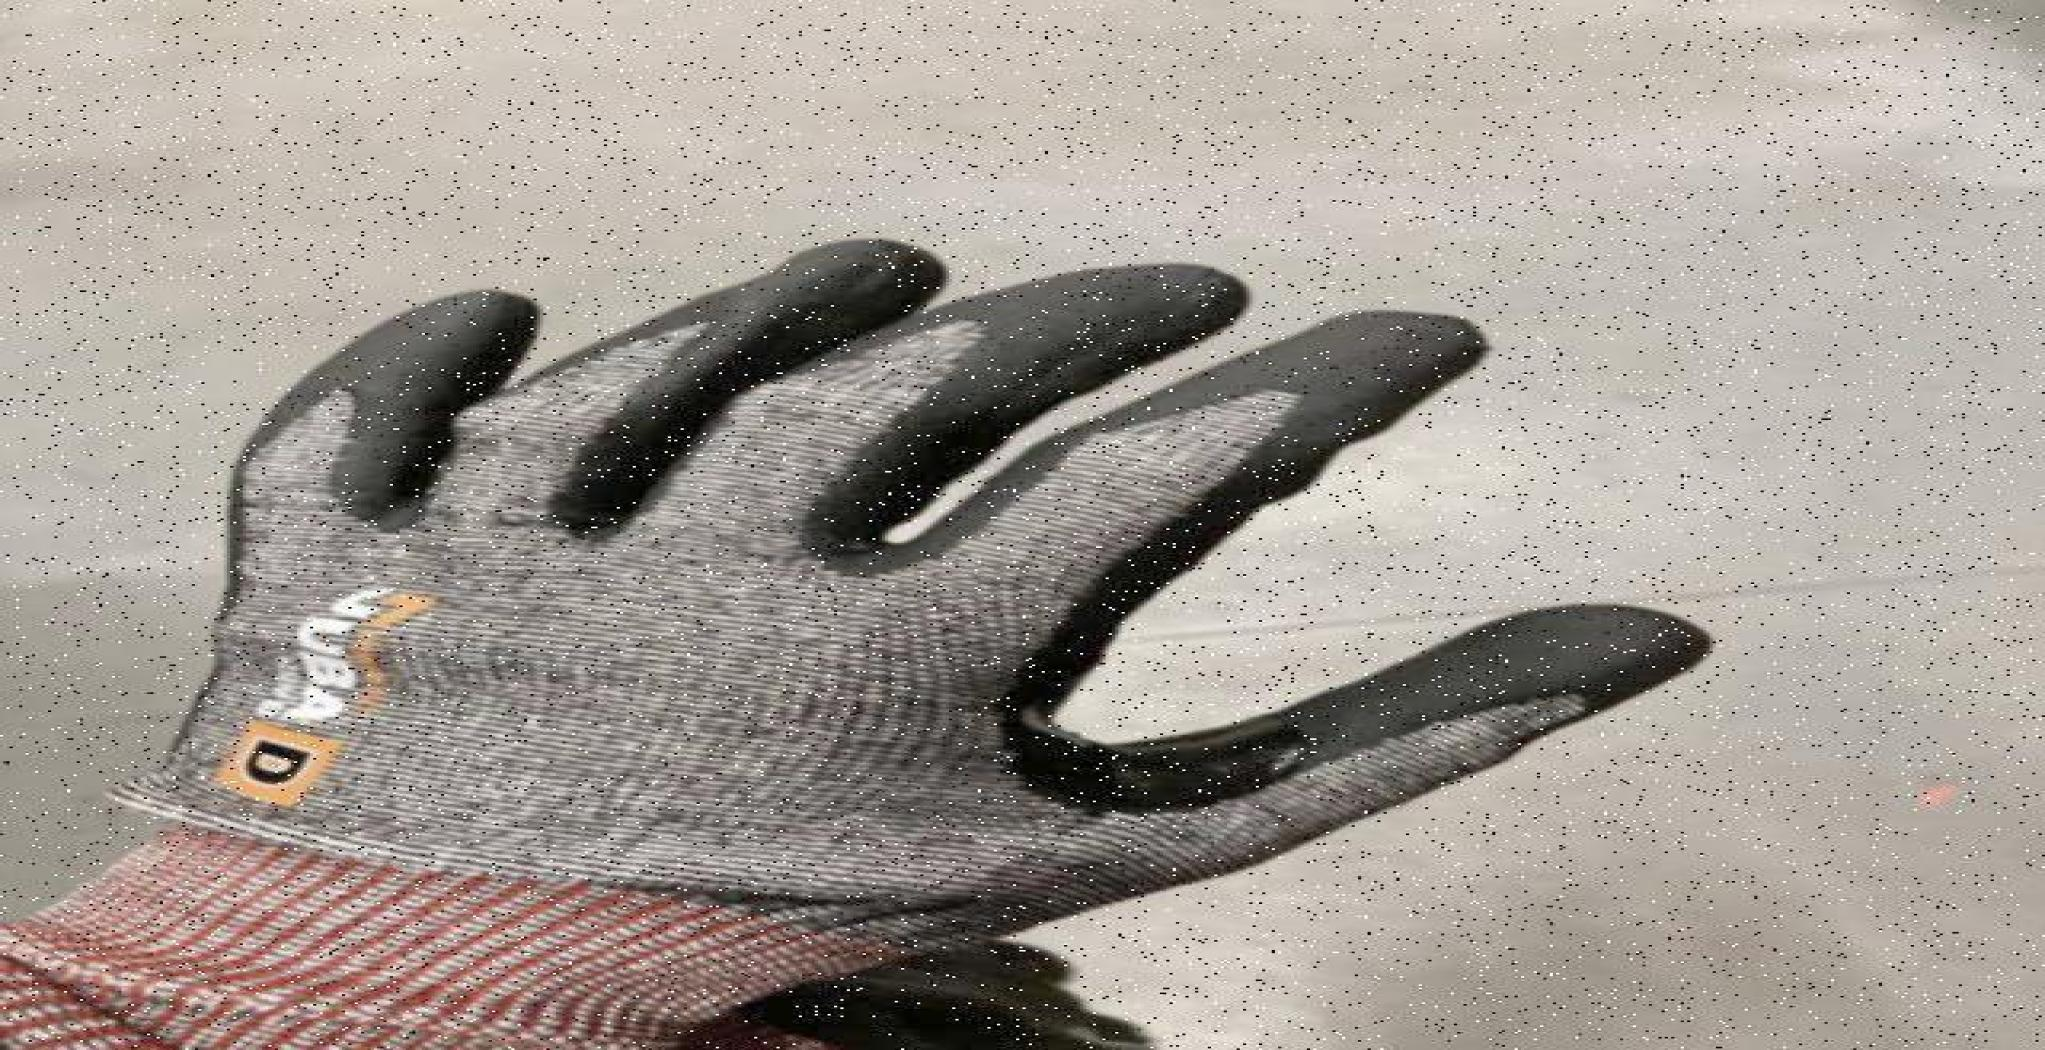gloved: (214, 256, 1689, 1050)
